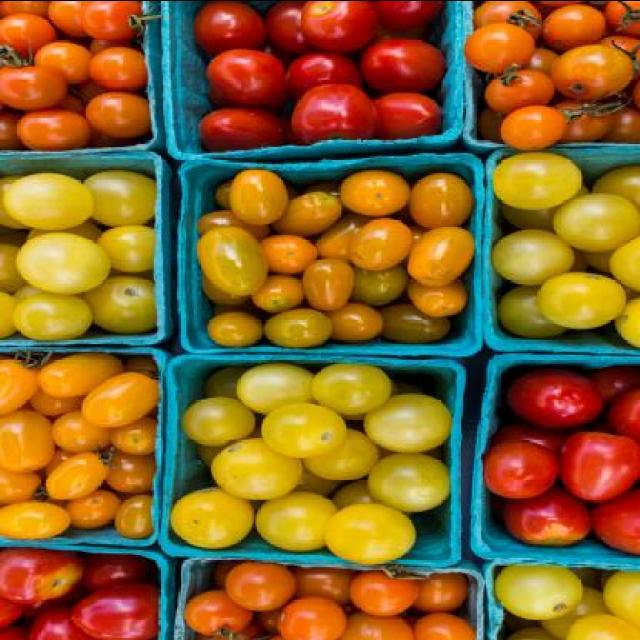Tomato: (0, 2, 638, 640), (363, 32, 451, 84)
